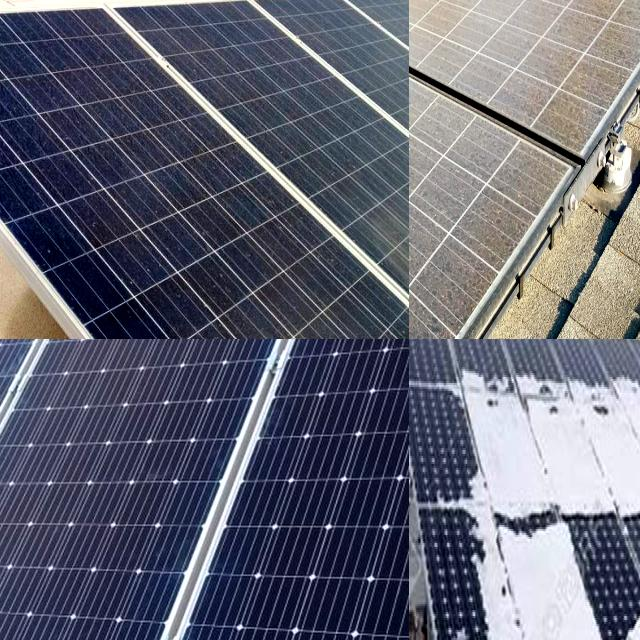crack: (69, 339, 409, 640), (0, 339, 281, 640)
dust: (409, 112, 561, 309), (179, 30, 342, 193), (126, 246, 327, 339), (0, 13, 101, 191), (346, 138, 409, 339), (409, 0, 615, 54), (409, 0, 489, 87)
panel: (468, 521, 602, 640), (445, 378, 552, 514), (560, 369, 640, 516), (608, 593, 640, 640)
